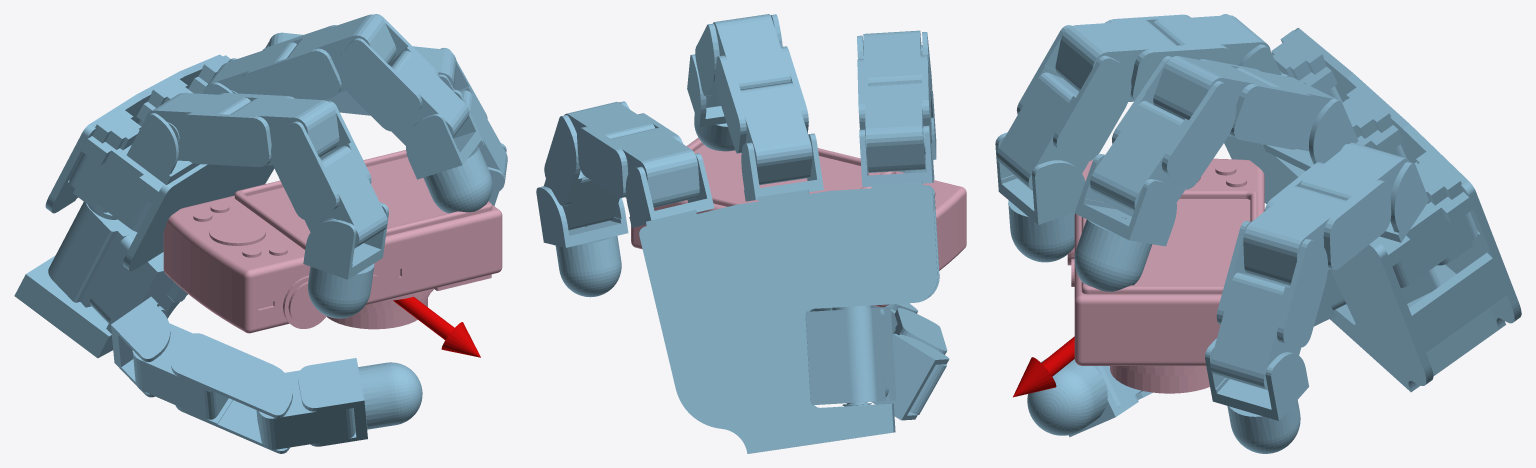
3 renders of one model, left to right at view 1: azimuth 30°, elevation 25°; view 2: azimuth 150°, elevation 25°; view 3: azimuth 270°, elevation 25°, orthographic. The views are drawn at different scales.
Visible parts, largest first — view 1: world, camera.stl; view 2: world, camera.stl; view 3: world, camera.stl.
Boxes of the visible parts, x1,y1,x2,y2 form: world: [14, 14, 507, 453]; camera.stl: [163, 150, 502, 333]; world: [536, 14, 949, 453]; camera.stl: [631, 137, 966, 307]; world: [995, 14, 1521, 453]; camera.stl: [1067, 158, 1264, 393].
Bounding box in the file's own units: 0.1892 × 0.1552 × 0.1794.
